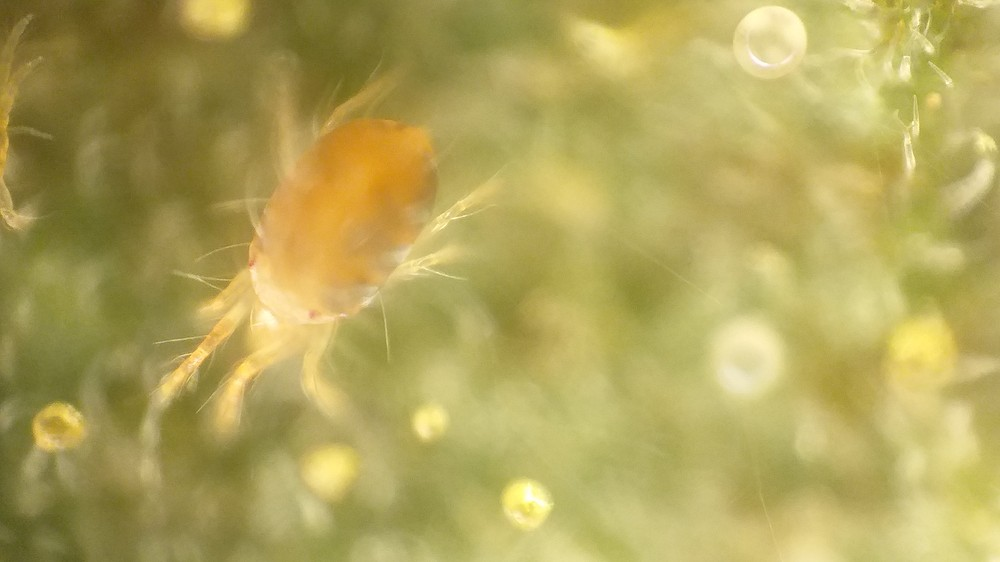Aracnido Rojo: (161, 60, 503, 430)
